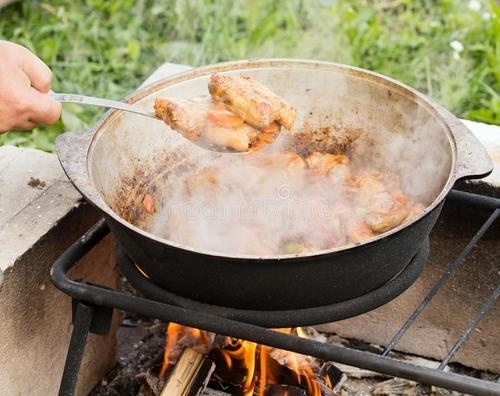fire: (153, 319, 332, 395)
